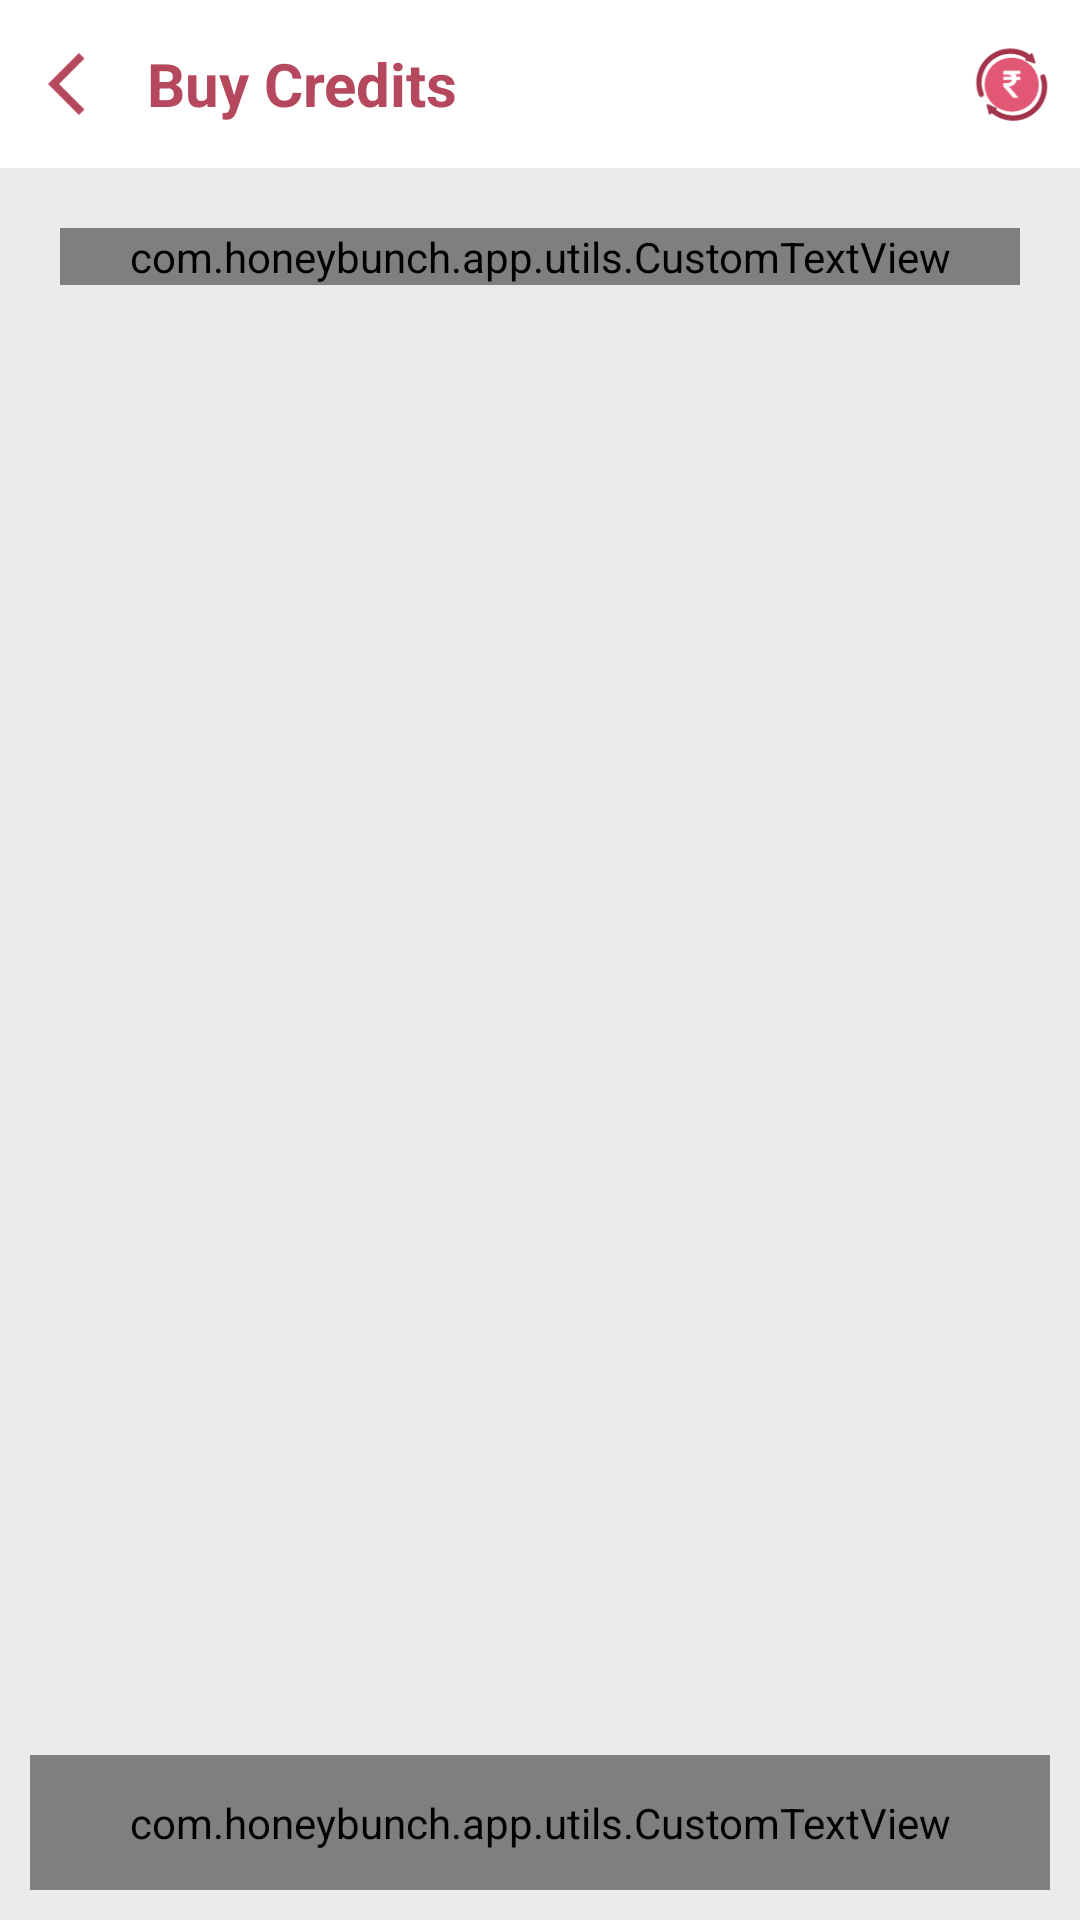

Locate icon controls on the screen. Image size 1080px x 1920px, boxes as (x1, y1, x2, y2).
arrow back: (48, 53, 84, 115)
credit: (975, 48, 1048, 121)
